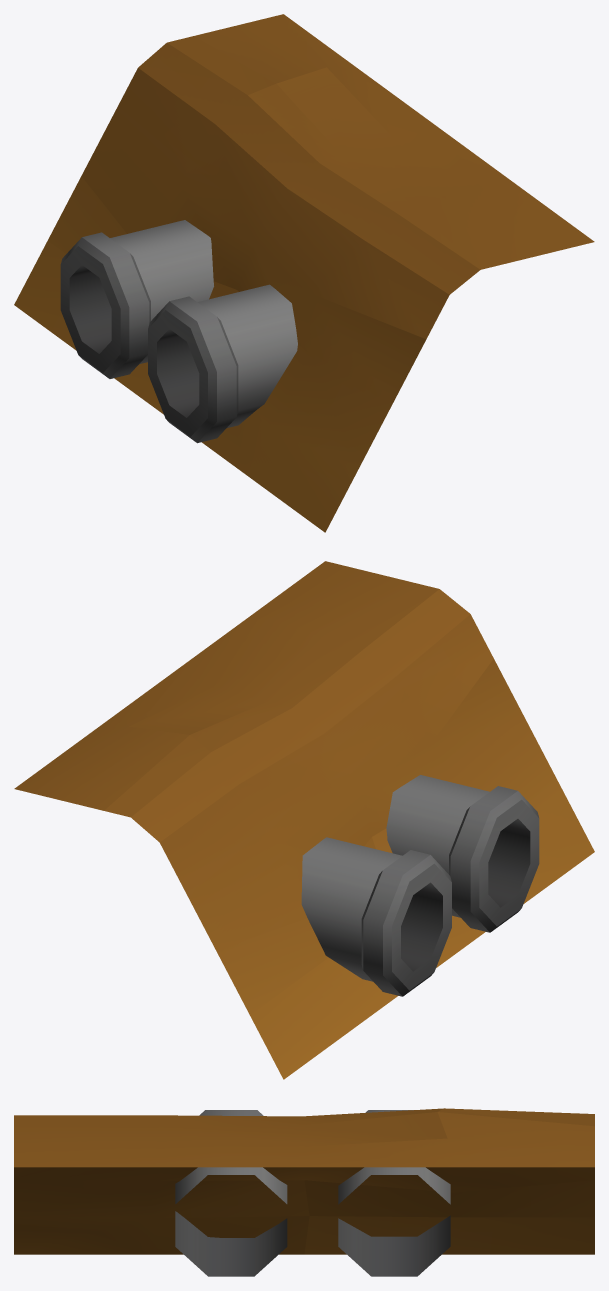
Rendered from cGround_A_Side_3.obj.
3 renders of one model, top to bottom at view 1: azimuth 30°, elevation 25°; view 2: azimuth 150°, elevation 25°; view 3: azimuth 270°, elevation 25°, orthographic. The views are drawn at different scales.
Parts seen in each view (by area): view 1: cGround_A_Side_3; view 2: cGround_A_Side_3; view 3: cGround_A_Side_3.
Part boxes in pixels (left/top/right/bottom): cGround_A_Side_3: left=14, top=14, right=594, bottom=532; cGround_A_Side_3: left=14, top=561, right=594, bottom=1079; cGround_A_Side_3: left=14, top=1108, right=594, bottom=1276.
Size of the model in its own units: 4.46 by 3.4 by 8.
